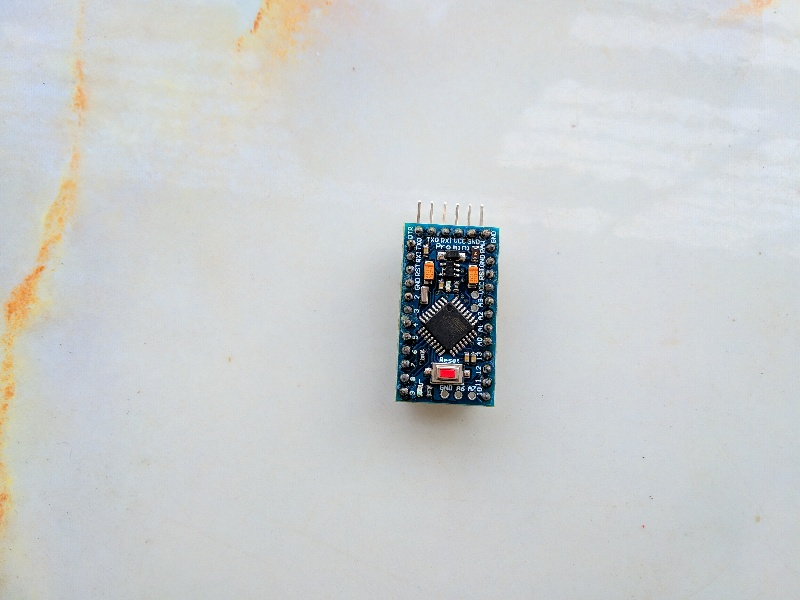Arduino Pro Mini: (394, 219, 503, 412)
